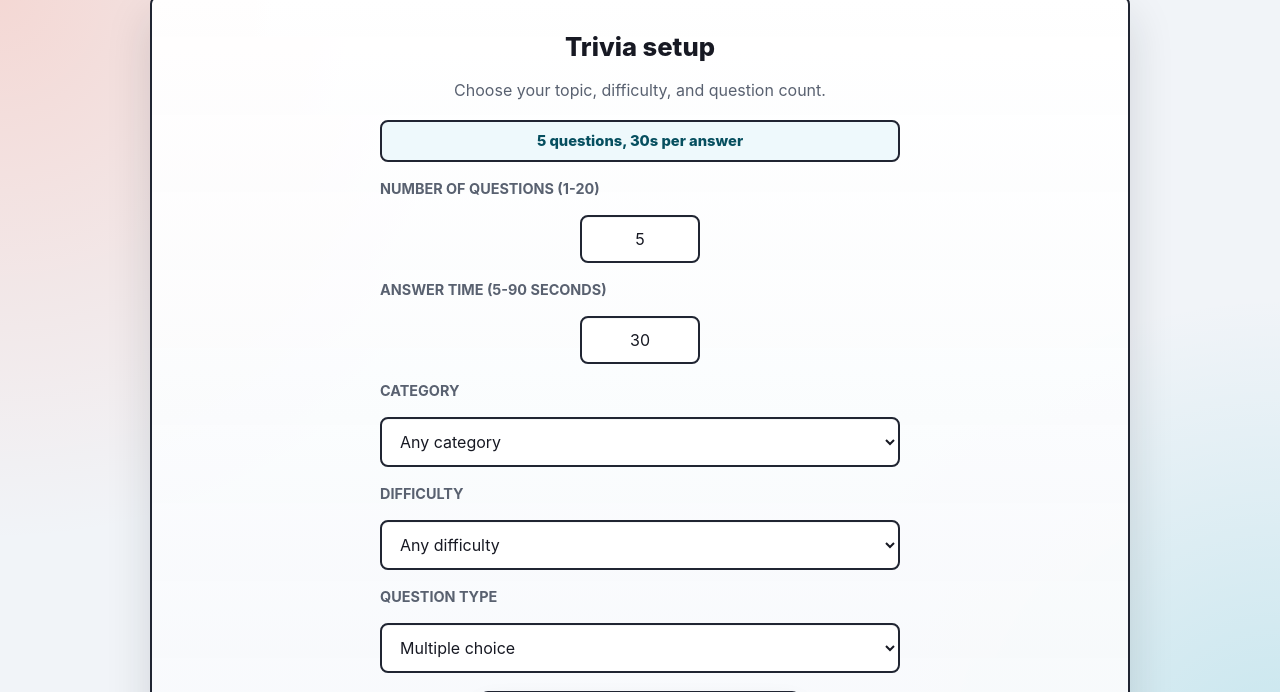
Test: TriviaSetupScreen › submits trivia setup payload and locks after a successful send
expect the text "5 questions, 30s per answer" is shown: met, box [380, 120, 900, 162]
Replace the text in the field labelled "Number of Questions (1-20)" with "8" at (640, 239), box [580, 215, 700, 263]
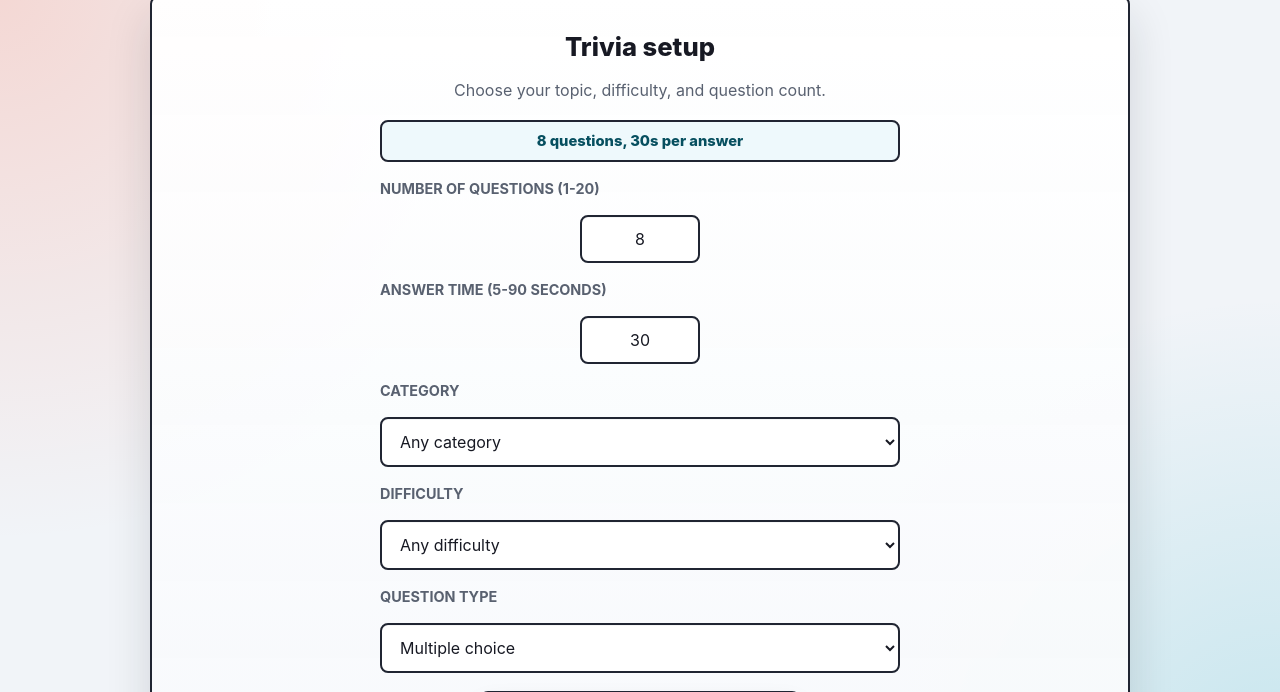
Replace the text in the field labelled "Answer Time (5-90 seconds)" with "45" at (640, 340), box [580, 316, 700, 364]
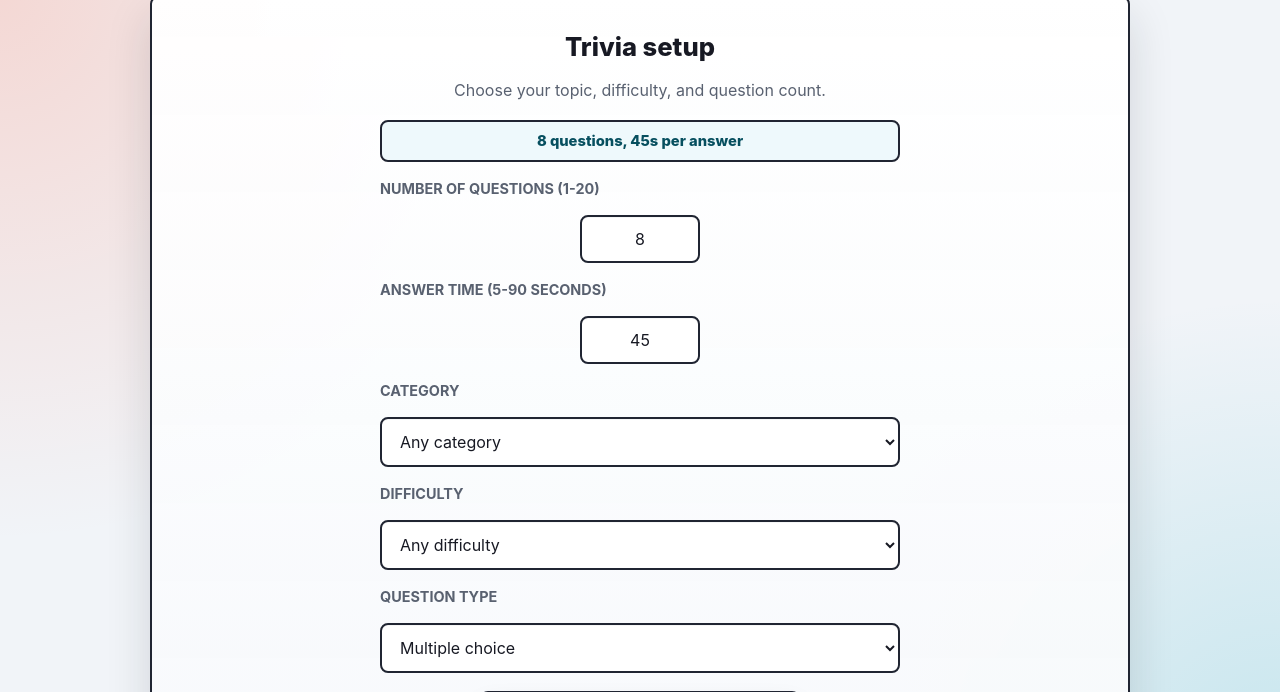
Select "General Knowledge" in the dropdown labelled "Category" at (640, 442), box [380, 417, 900, 467]
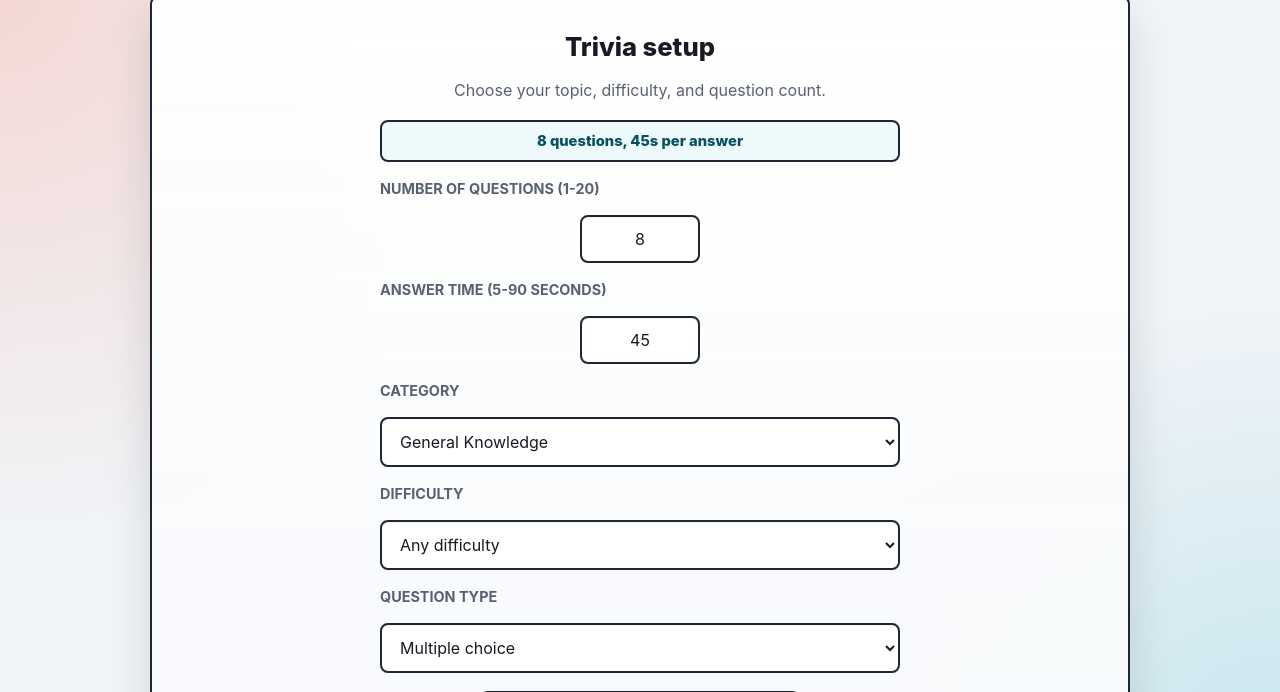
Select "Hard" in the dropdown labelled "Difficulty" at (640, 545), box [380, 520, 900, 570]
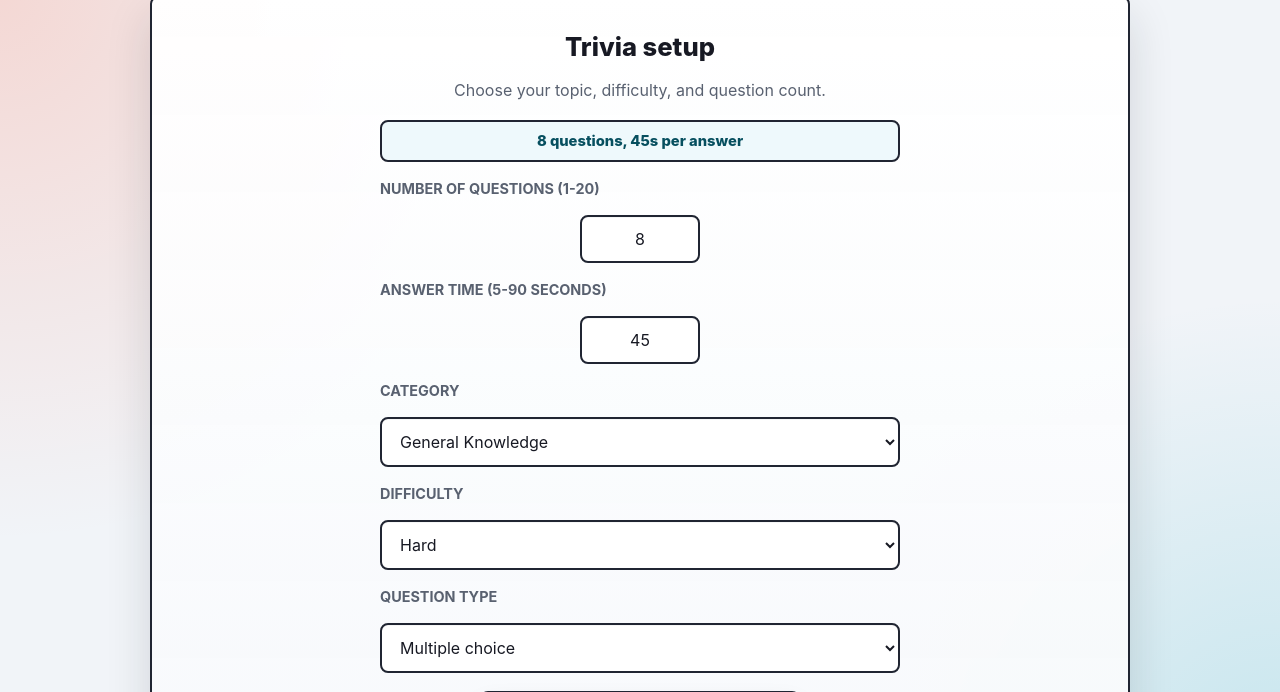
Select "True or false" in the dropdown labelled "Question Type" at (640, 648), box [380, 623, 900, 673]
(page scrolled)
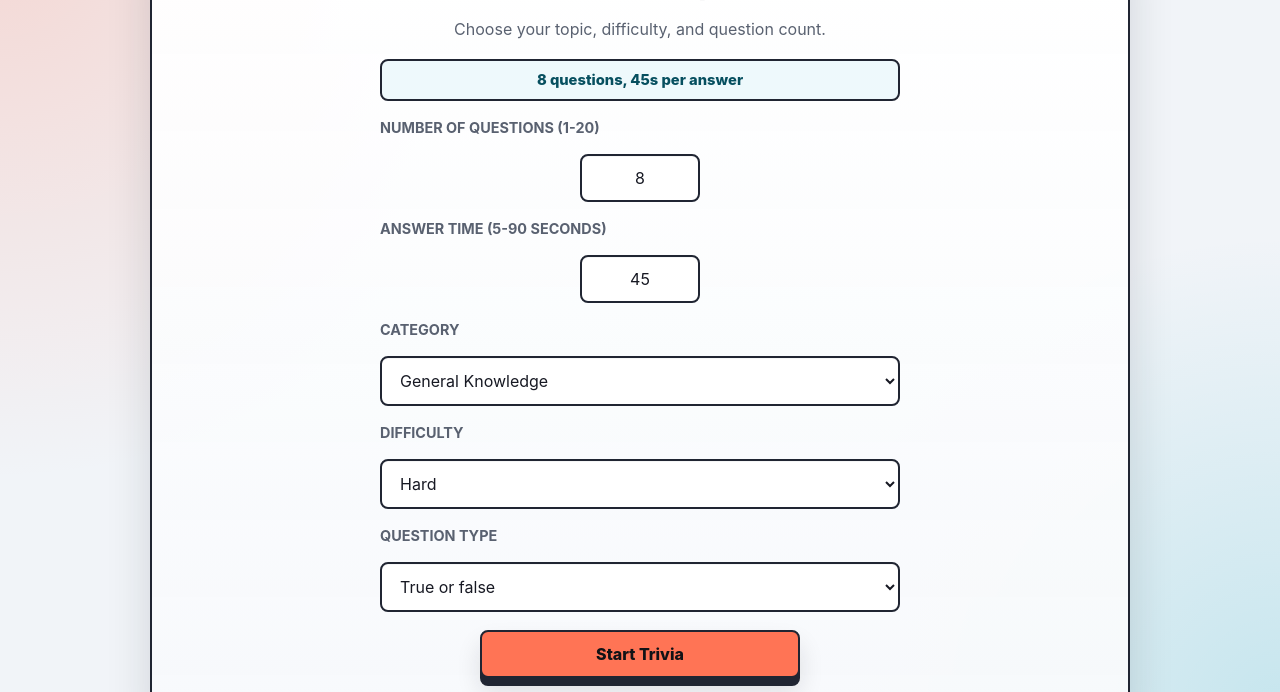
expect the text "8 questions, 45s per answer" is shown: met, box [380, 59, 900, 101]
Click the button "Start Trivia" at (640, 654), box [480, 630, 800, 678]
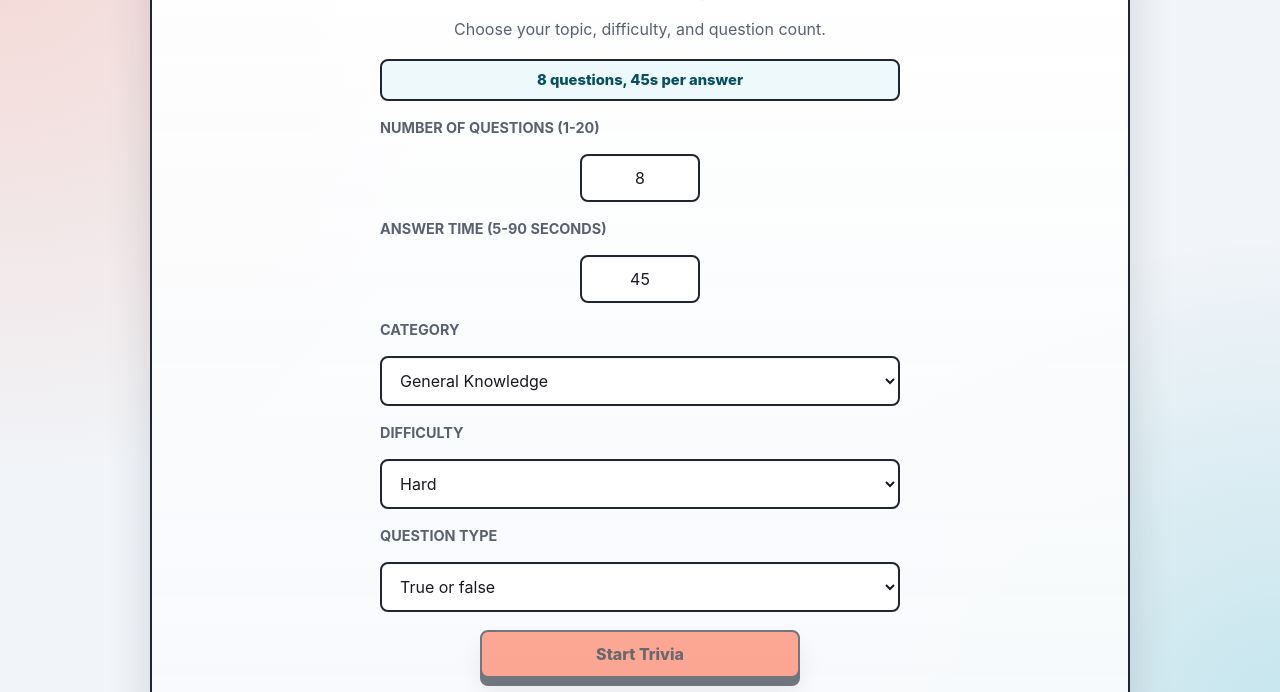
expect the button "Start Trivia" is disabled: met, box [480, 630, 800, 678]
